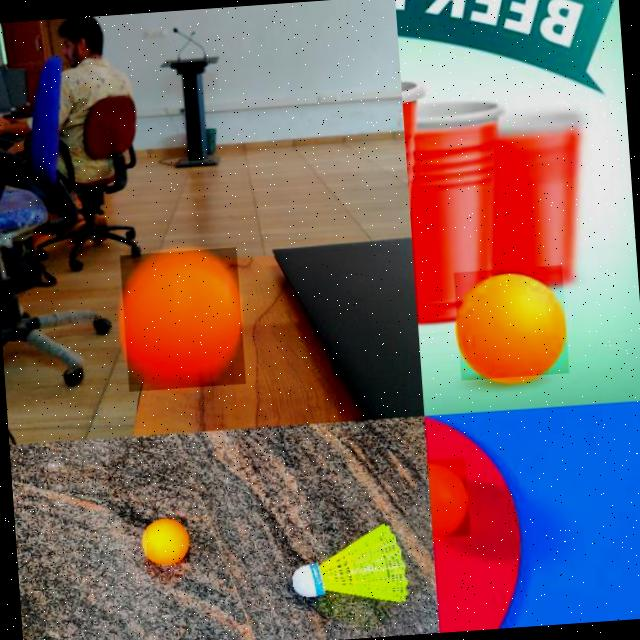ping-pong-ball: (118, 246, 245, 392), (452, 264, 568, 380), (427, 456, 468, 538), (142, 515, 190, 565)
